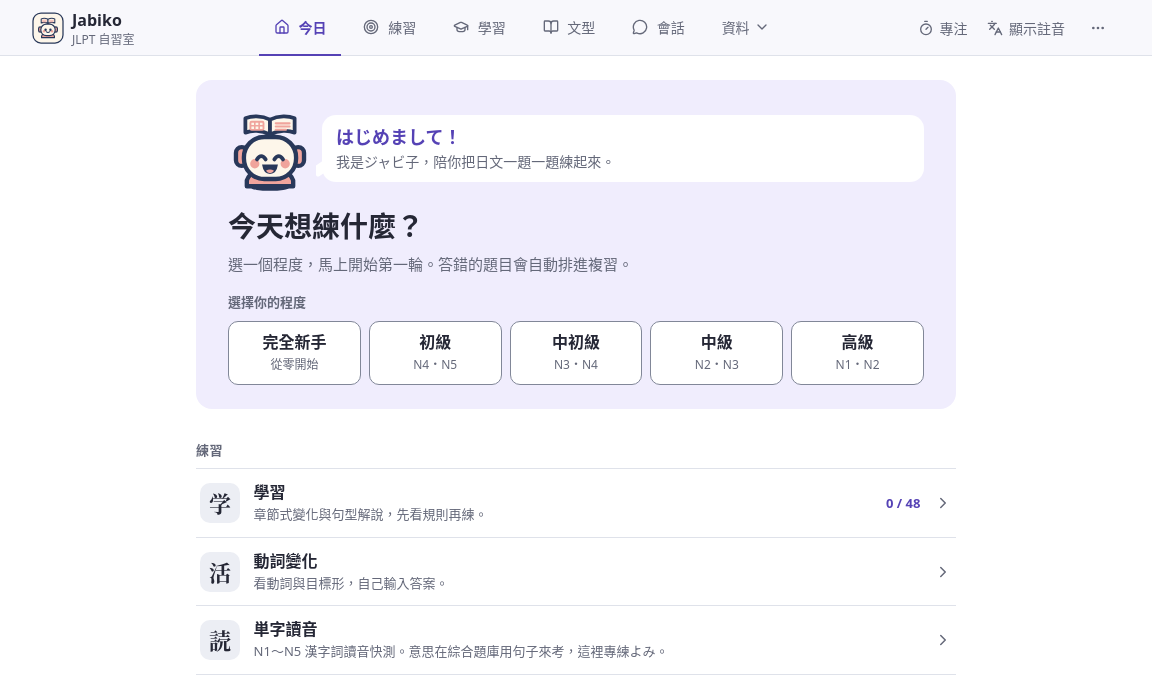
Test: App Focus Mode (#771) › starts a 25/5 session from the app chrome with no sign-in
Click the button "專注": (943, 28) [909, 6, 976, 50]
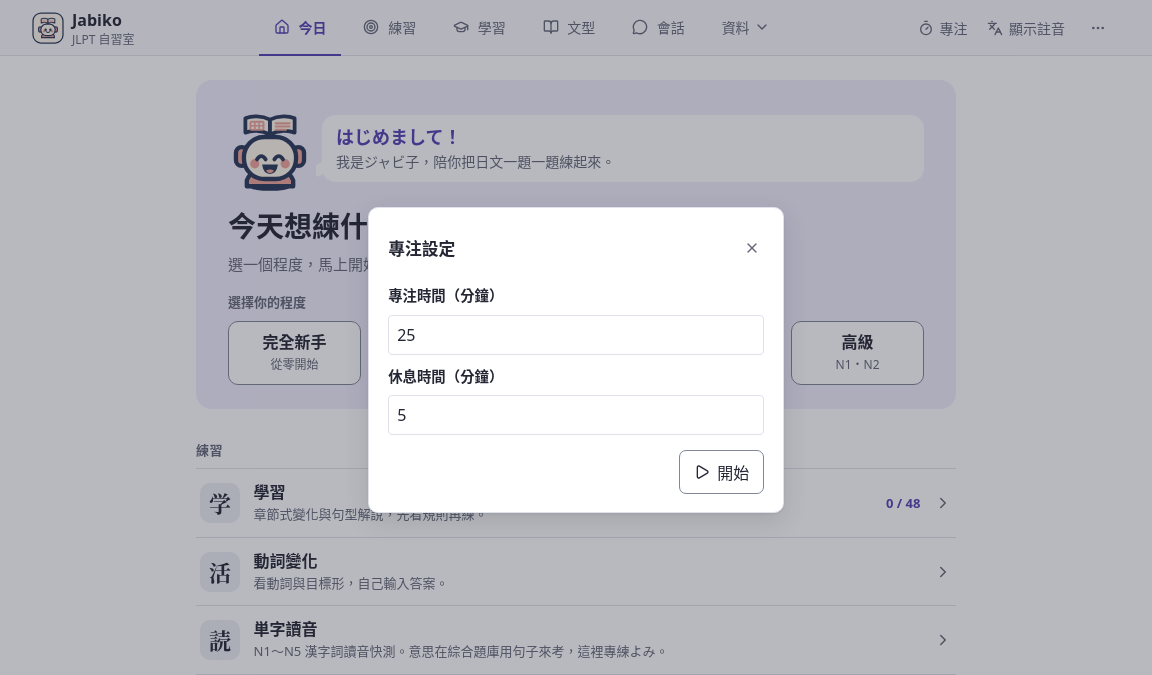
Click the button "開始": (722, 472) [679, 450, 764, 494]
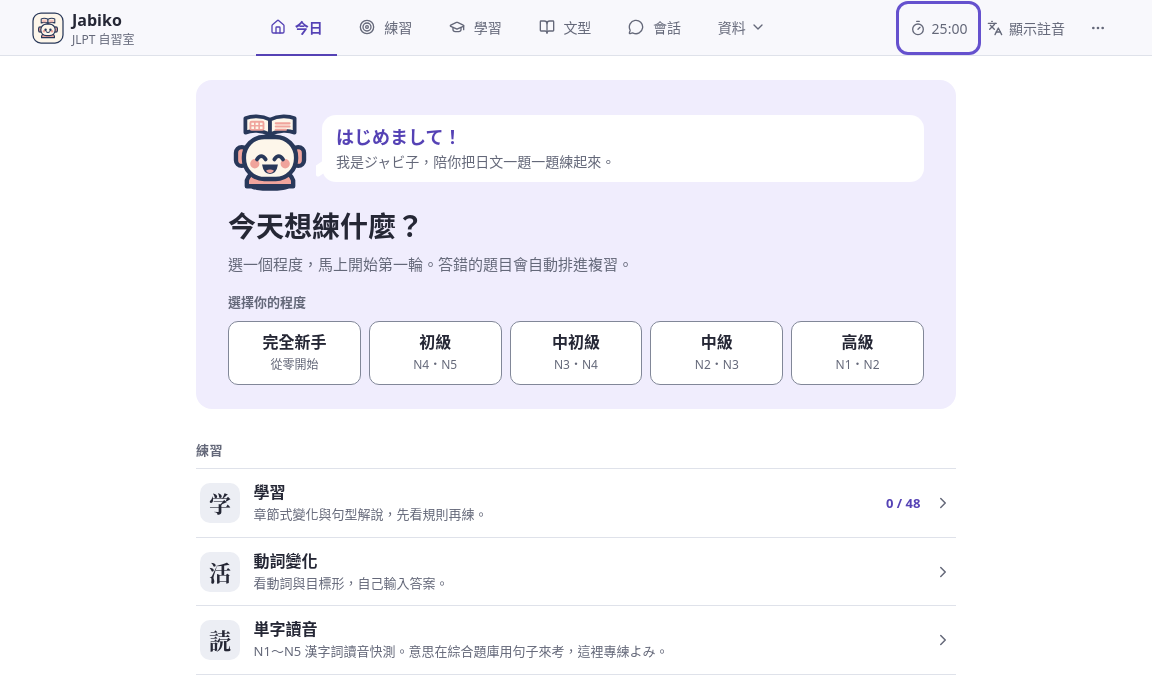
Now the button named "專注 25:00" is shown, box [901, 6, 976, 50]
